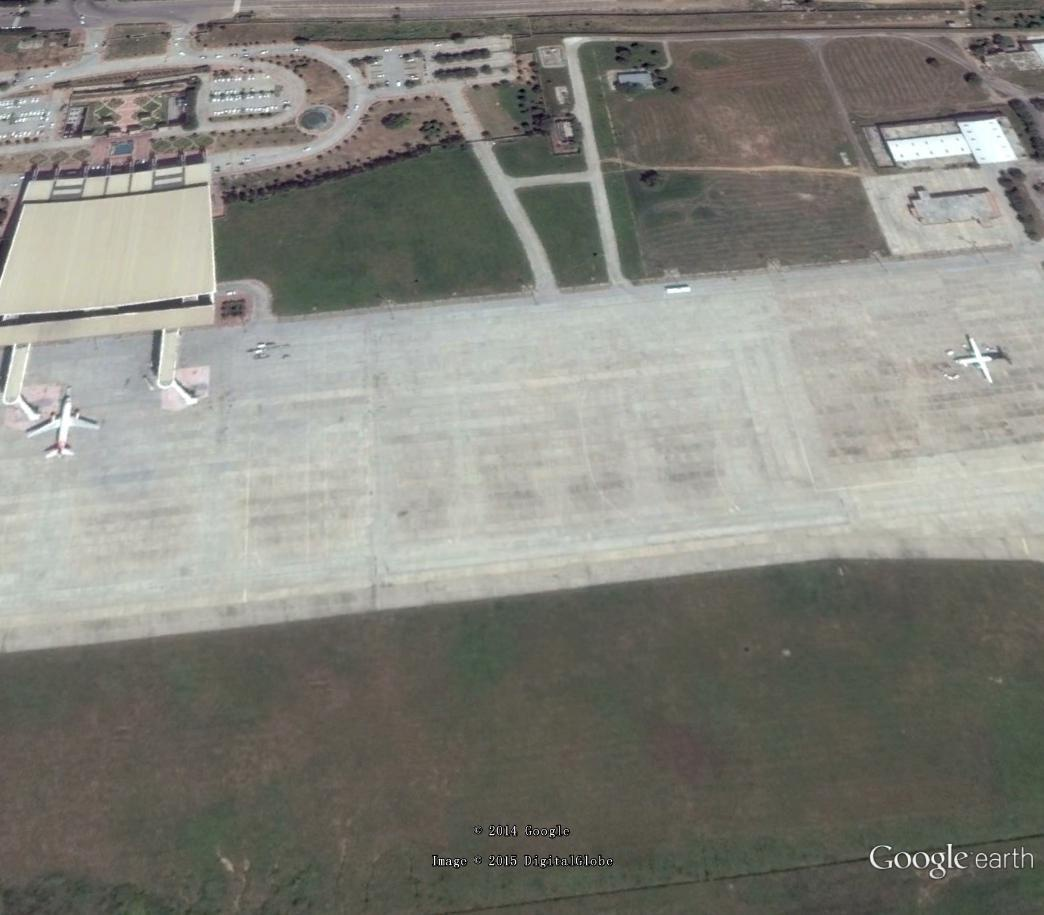aircraft: (24, 390, 102, 465), (948, 328, 1015, 390)
